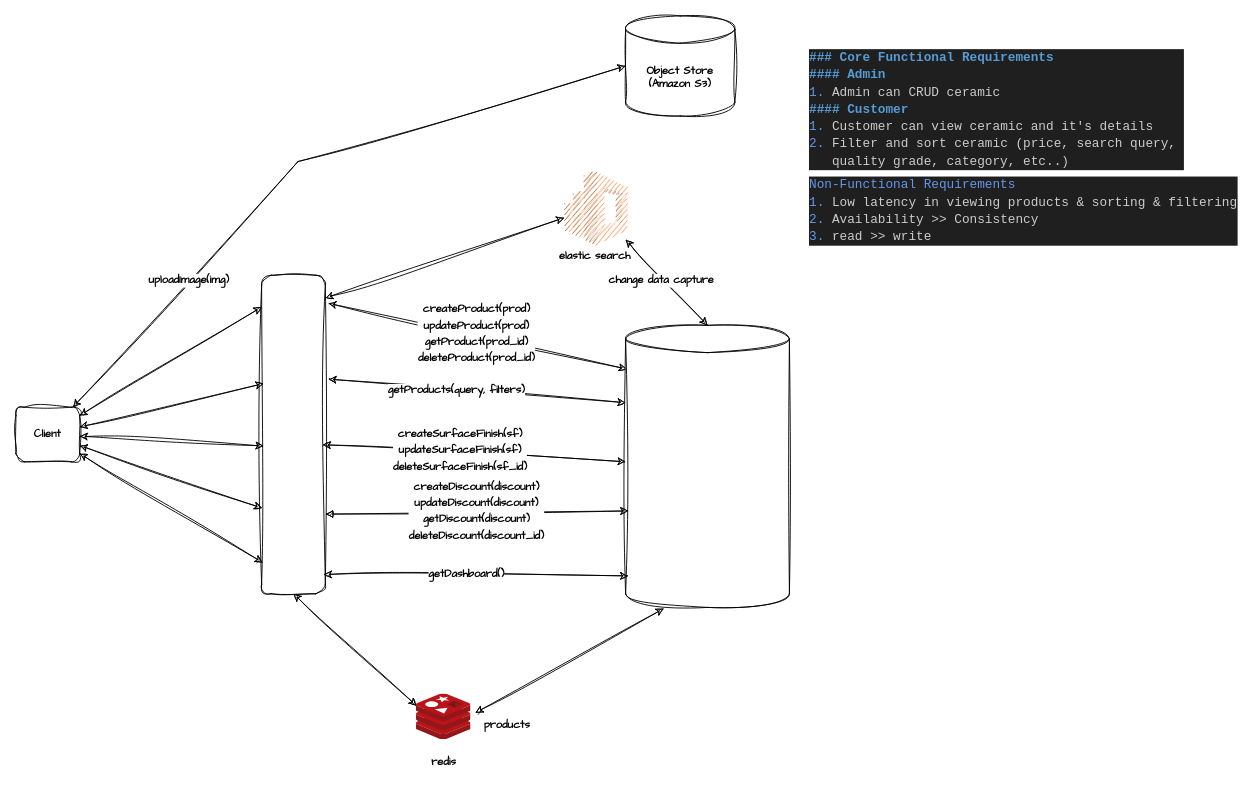
Some shapes in this 1254 by 785 pixel diagram are drawn without their labels. The centre of each missing label's shape, as x and y in pixels:
"Server" belongs at (293,434).
"SQL Server (use indexes)" belongs at (707,465).
